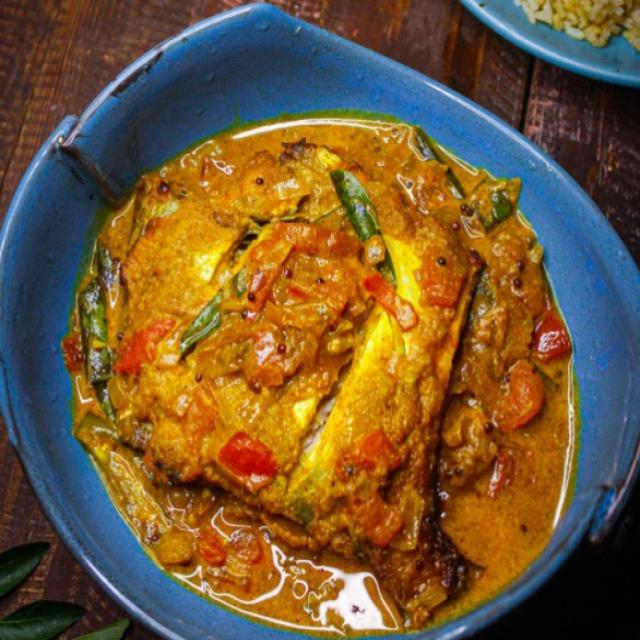FISH CURRY: (61, 122, 573, 635)
